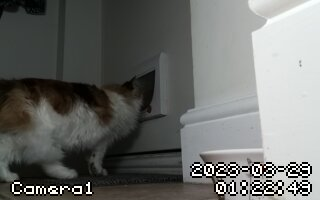clara: (1, 69, 151, 186)
